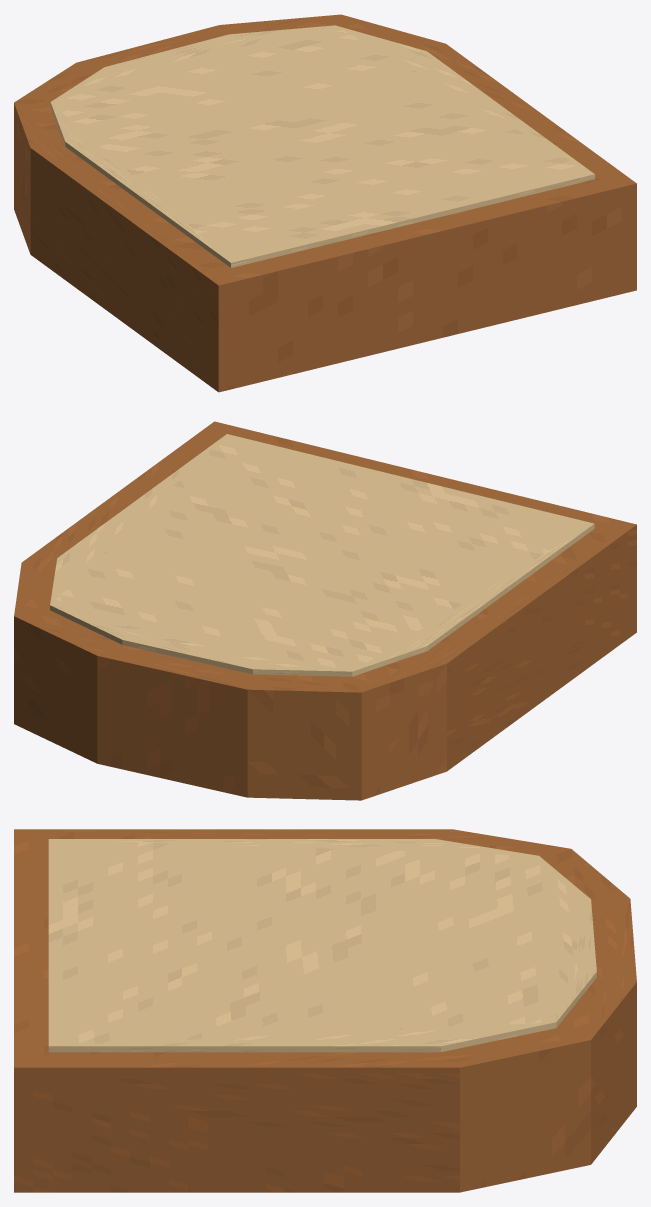
File: bread.glb
The picture shows the model from 3 angles, top to bottom: view 1: azimuth 30°, elevation 25°; view 2: azimuth 150°, elevation 25°; view 3: azimuth 270°, elevation 25°; orthographic projection. The views are drawn at different scales.
Parts seen in each view (by area): view 1: block_browned crust, block_porous crumb; view 2: block_browned crust, block_porous crumb; view 3: block_porous crumb, block_browned crust.
Boxes of the visible parts, left/top/right/bottom form: block_browned crust: left=14, top=14, right=636, bottom=392; block_porous crumb: left=50, top=25, right=594, bottom=267; block_browned crust: left=14, top=421, right=636, bottom=800; block_porous crumb: left=50, top=434, right=594, bottom=676; block_porous crumb: left=48, top=839, right=596, bottom=1052; block_browned crust: left=14, top=829, right=636, bottom=1192.
Bounding box in the file's own units: 0.086 × 0.022 × 0.095.
Materials: 1 (1 with a texture image).
